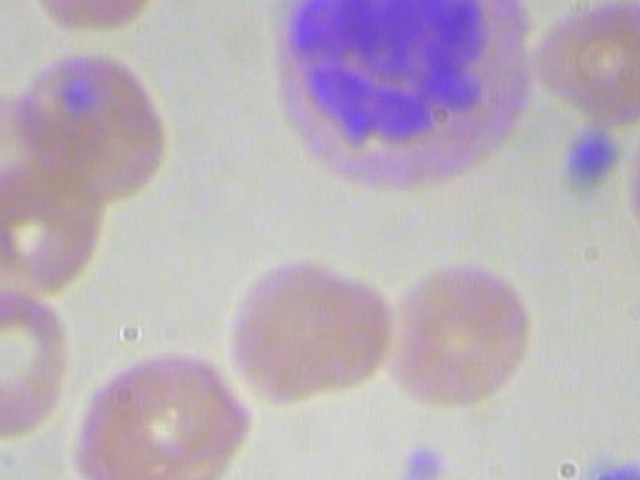Platelets: (559, 120, 626, 197), (396, 444, 453, 480), (579, 448, 640, 480)
RBC: (379, 253, 545, 415), (227, 253, 393, 415), (6, 46, 172, 208), (67, 343, 261, 480), (523, 0, 640, 124), (0, 281, 75, 439), (6, 0, 172, 43), (633, 102, 640, 262)
WBC: (251, 0, 539, 200)
